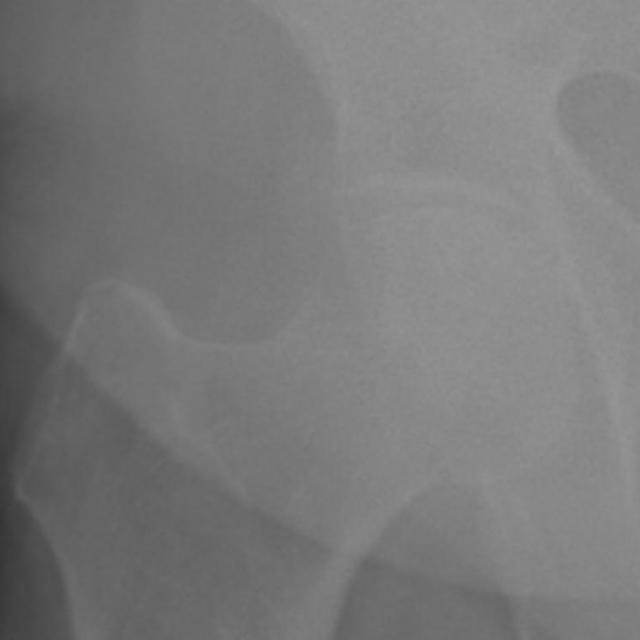Fitted_femural_head: (290, 200, 432, 290)
